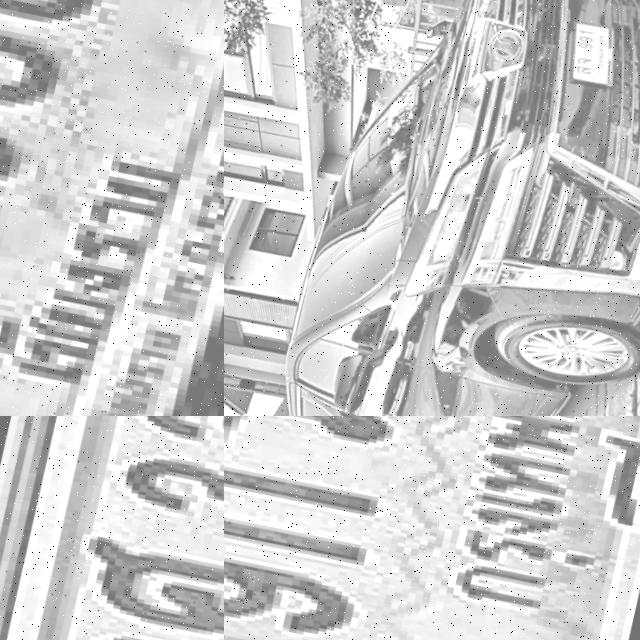license-plate: (0, 0, 224, 416), (224, 416, 640, 640), (0, 416, 224, 640), (557, 19, 623, 94)
